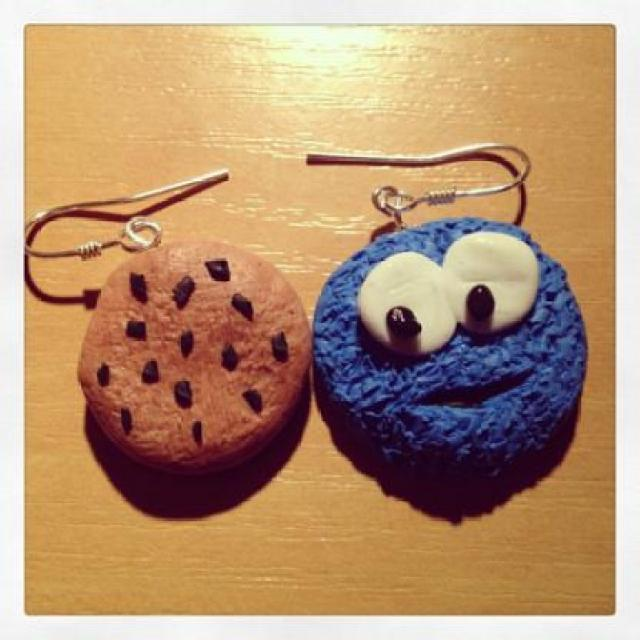Cookie: (310, 213, 592, 481), (76, 232, 315, 474)
